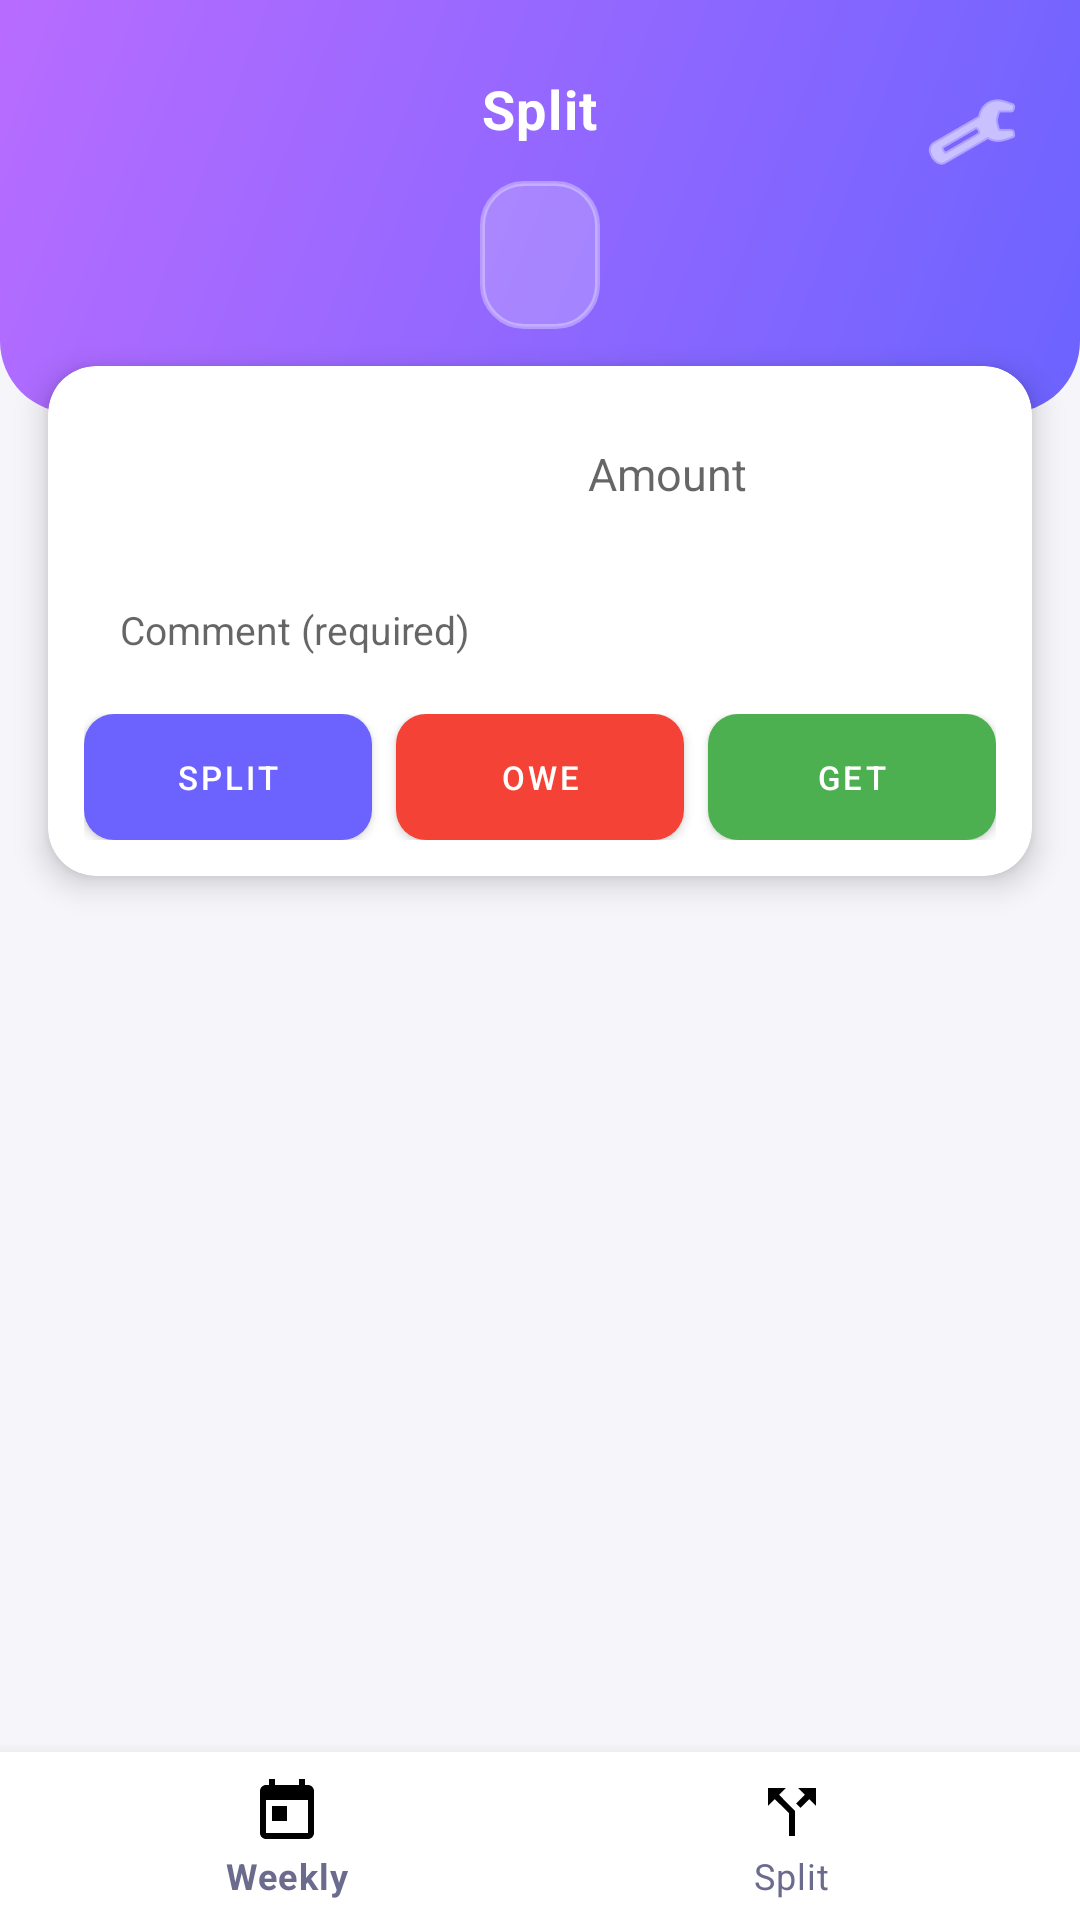

Icon bounding boxes for this 1080w x 1920h phone screenshot, format (x1, y1, x2, y2):
Settings: (929, 99, 1015, 165)
